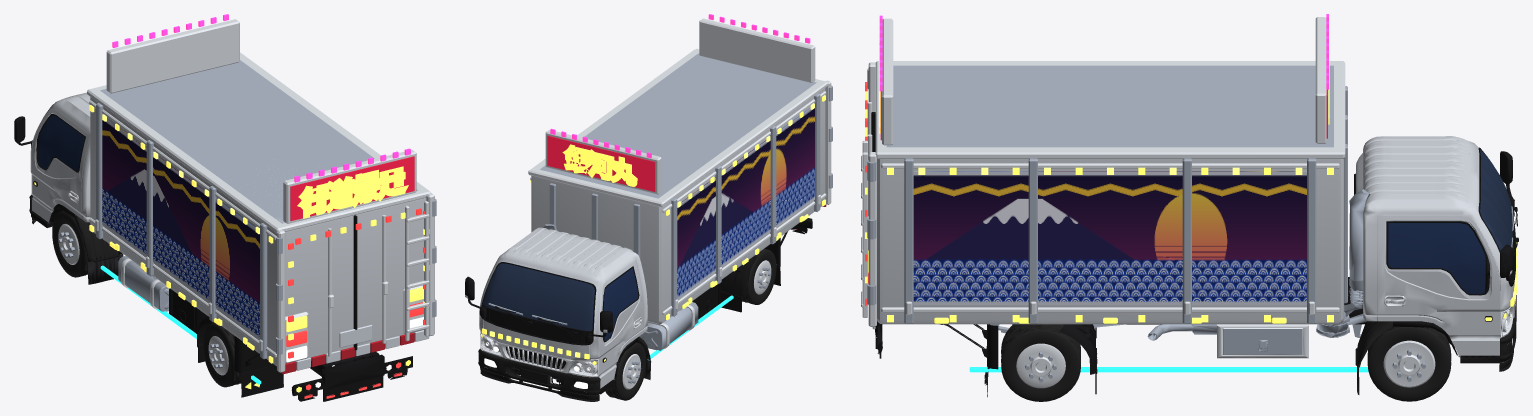
File: dekotora_truck_canter.glb
The picture shows the model from 3 angles, left to right: view 1: azimuth 30°, elevation 25°; view 2: azimuth 150°, elevation 25°; view 3: azimuth 270°, elevation 25°; orthographic projection. The views are drawn at different scales.
Parts seen in each view (by area): view 1: truck_steel, truck_paint_white_panel, truck_chrome, truck_mural, truck_plastic_black, truck_lamp_amber, wheel_r_L_1.77_0.955, truck_glass, wheel_f_L, truck_andon_panel, truck_paint_white, truck_lamp_red (+6 smaller); view 2: truck_steel, truck_paint_white_panel, truck_chrome, truck_mural, truck_plastic_black, truck_glass_wind, truck_plastic_trim, truck_lamp_amber, truck_andon_panel, wheel_f_L, wheel_r_L_1.77_0.955, truck_glass (+2 smaller); view 3: truck_mural, truck_steel, truck_paint_white_panel, truck_chrome, truck_plastic_black, wheel_f_R, wheel_r_R_1.77_0.955, truck_glass, truck_glass_wind, truck_lamp_amber, truck_lamp_cyan, truck_plastic_trim.
Part boxes in pixels (x1=…): truck_steel: x1=96, y1=60, x2=436, y2=359; truck_paint_white_panel: x1=30, y1=92, x2=426, y2=366; truck_chrome: x1=31, y1=19, x2=434, y2=372; truck_mural: x1=102, y1=119, x2=259, y2=339; truck_plastic_black: x1=14, y1=104, x2=412, y2=401; truck_lamp_amber: x1=34, y1=105, x2=429, y2=392; wheel_r_L_1.77_0.955: x1=202, y1=323, x2=241, y2=387; truck_glass: x1=38, y1=115, x2=84, y2=171; wheel_f_L: x1=52, y1=211, x2=93, y2=277; truck_andon_panel: x1=290, y1=156, x2=414, y2=220; truck_paint_white: x1=296, y1=324, x2=429, y2=370; truck_lamp_red: x1=286, y1=208, x2=429, y2=398; truck_steel: x1=488, y1=53, x2=832, y2=350; truck_paint_white_panel: x1=479, y1=88, x2=825, y2=388; truck_chrome: x1=465, y1=18, x2=831, y2=377; truck_mural: x1=677, y1=108, x2=814, y2=299; truck_plastic_black: x1=465, y1=218, x2=812, y2=394; truck_glass_wind: x1=483, y1=263, x2=594, y2=330; truck_plastic_trim: x1=478, y1=337, x2=650, y2=401; truck_lamp_amber: x1=481, y1=95, x2=825, y2=364; truck_andon_panel: x1=547, y1=135, x2=655, y2=191; wheel_f_L: x1=605, y1=342, x2=646, y2=400; wheel_r_L_1.77_0.955: x1=742, y1=248, x2=776, y2=304; truck_glass: x1=603, y1=268, x2=638, y2=340; truck_mural: x1=913, y1=171, x2=1306, y2=305; truck_steel: x1=867, y1=65, x2=1513, y2=354; truck_paint_white_panel: x1=877, y1=136, x2=1514, y2=355; truck_chrome: x1=861, y1=17, x2=1515, y2=358; truck_plastic_black: x1=871, y1=112, x2=1518, y2=397; wheel_f_R: x1=1367, y1=321, x2=1451, y2=401; wheel_r_R_1.77_0.955: x1=1001, y1=324, x2=1080, y2=401; truck_glass: x1=1388, y1=223, x2=1485, y2=293; truck_glass_wind: x1=1480, y1=149, x2=1512, y2=250; truck_lamp_amber: x1=865, y1=36, x2=1517, y2=384; truck_lamp_cyan: x1=969, y1=367, x2=1368, y2=372; truck_plastic_trim: x1=1357, y1=295, x2=1516, y2=371.
Size of the model in its own units: 2.56 by 3.71 by 7.07.
Materials: 21 (6 with a texture image).
